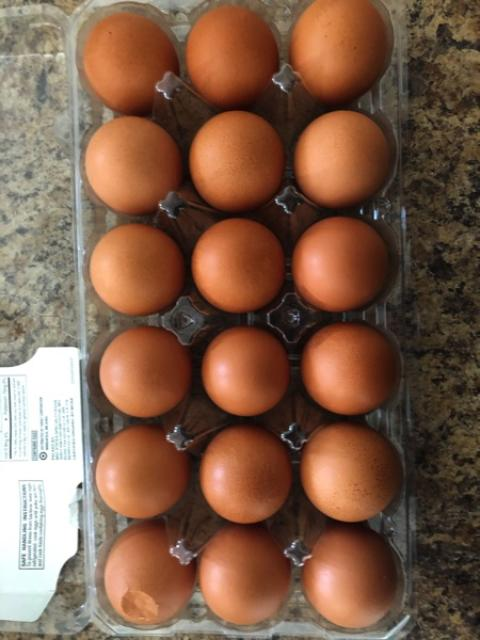Roto: (101, 521, 196, 627)
Sano: (302, 422, 402, 523), (306, 526, 402, 631), (198, 425, 296, 526), (200, 525, 294, 629), (294, 108, 396, 203), (84, 115, 181, 212), (291, 216, 390, 311), (92, 424, 190, 519), (292, 0, 386, 99), (191, 109, 285, 205), (300, 321, 396, 414), (189, 217, 283, 311), (100, 324, 190, 419), (186, 5, 275, 101), (85, 14, 175, 107), (90, 223, 183, 313), (198, 326, 289, 416)
